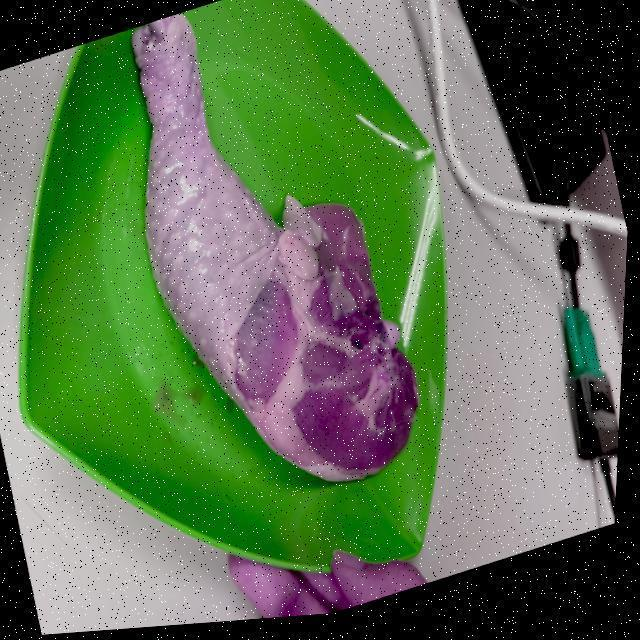quater: (133, 26, 417, 490)
